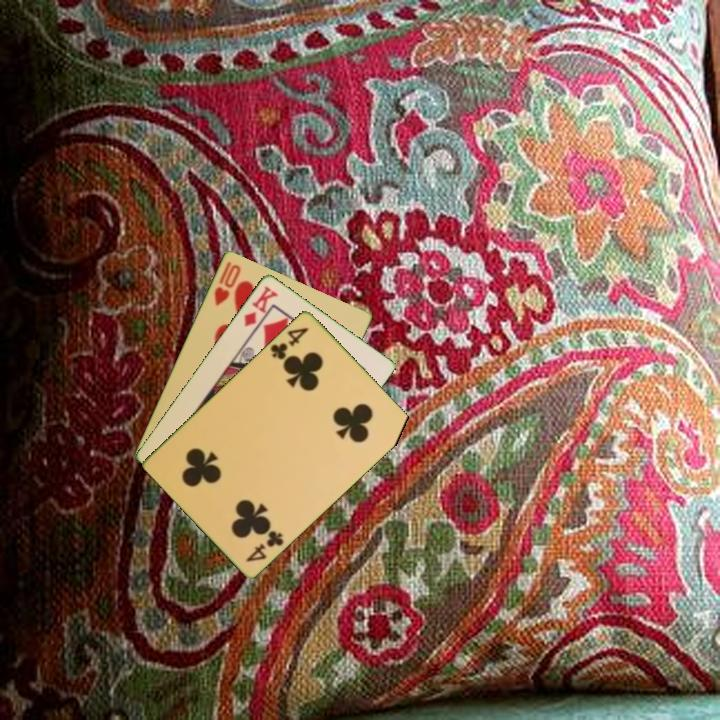10h: (210, 257, 244, 308)
4c: (267, 323, 312, 362), (243, 526, 286, 565)
Kd: (240, 282, 281, 329)
